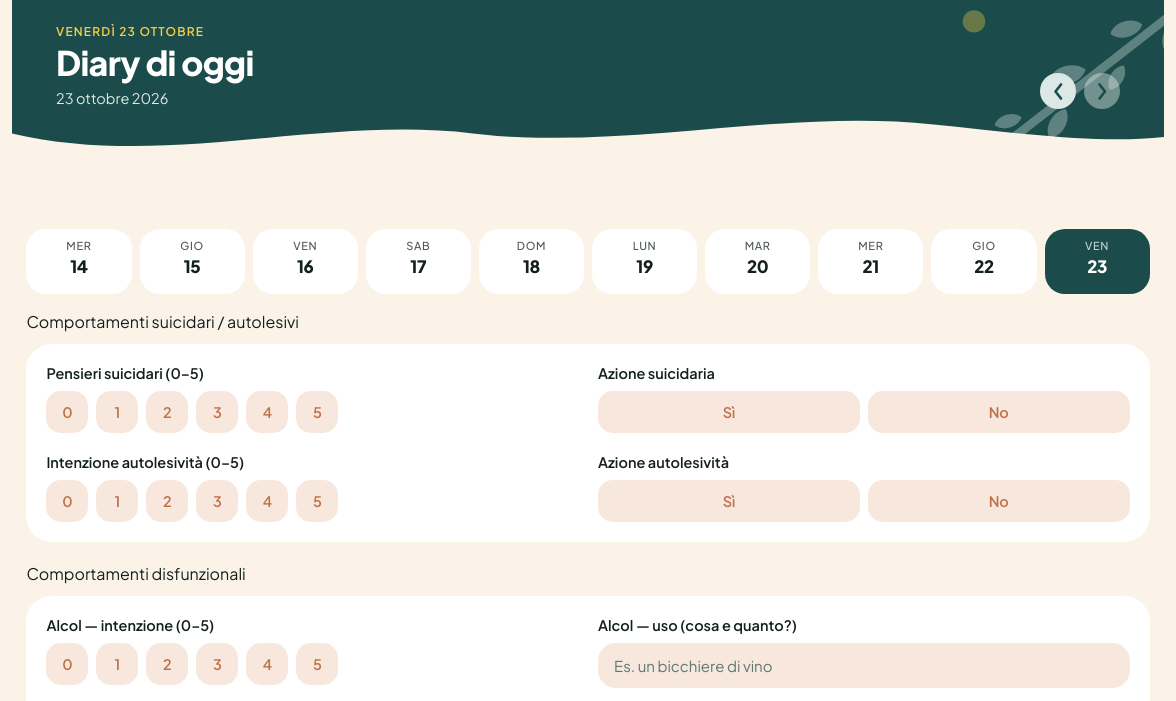
PaginaDiario › se il salvataggio fallisce avvisa e tiene la bozza
Click the button "5" below "Pensieri suicidari (0–5)". click: (317, 412)
box: [296,391,338,433]
(page scrolled)
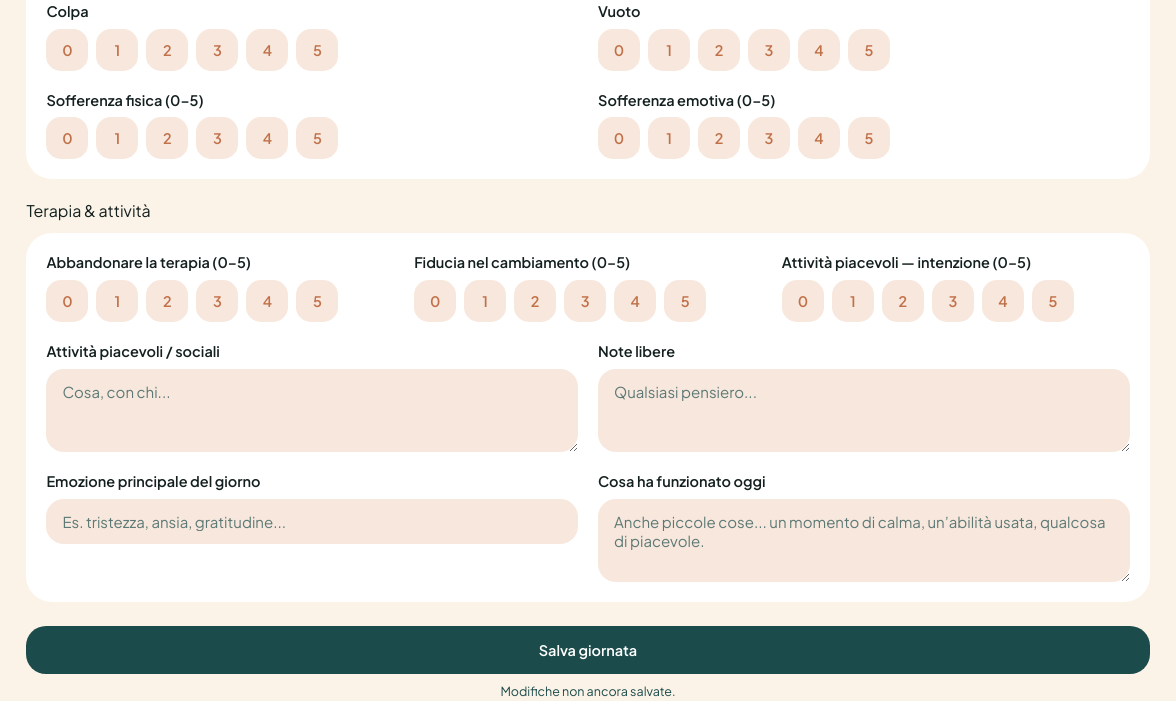
Click the button "Salva giornata". click: (588, 650)
box: [26,626,1150,674]
(page scrolled)
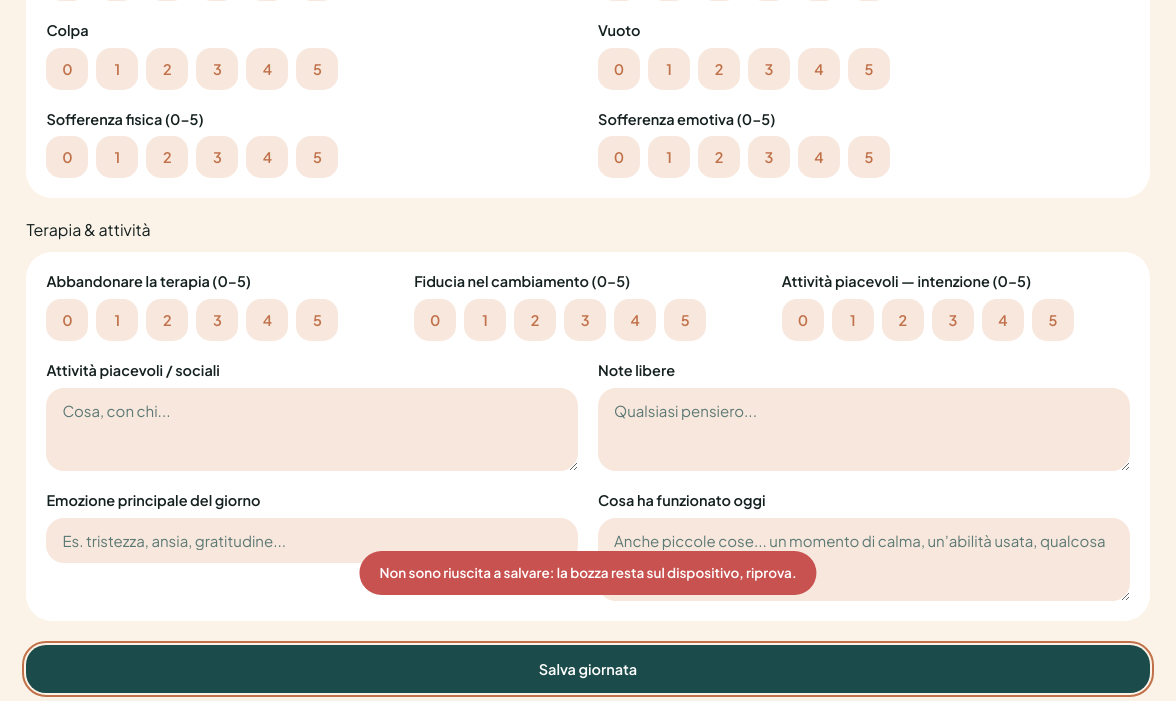
Now the message shows "Non sono riuscita a salvare", box [379,564,796,581]
